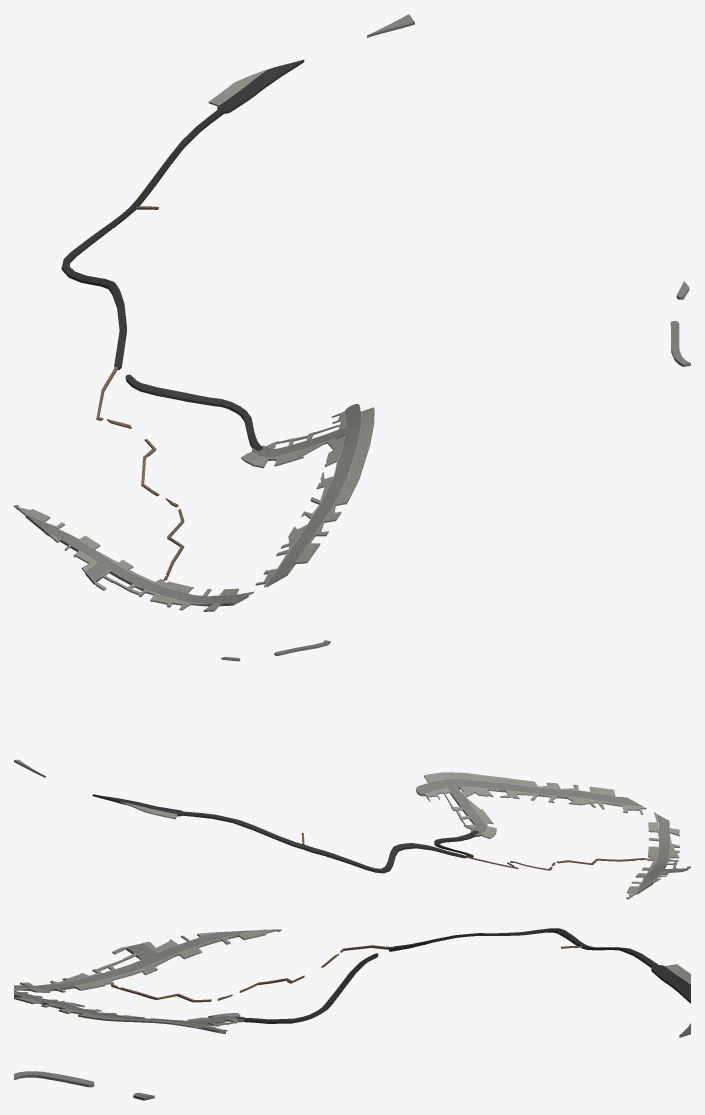
The picture shows the model from 3 angles, top to bottom: view 1: azimuth 30°, elevation 25°; view 2: azimuth 150°, elevation 25°; view 3: azimuth 270°, elevation 25°; orthographic projection. The views are drawn at different scales.
Bounding box in the file's own units: 293 × 102 × 292.
